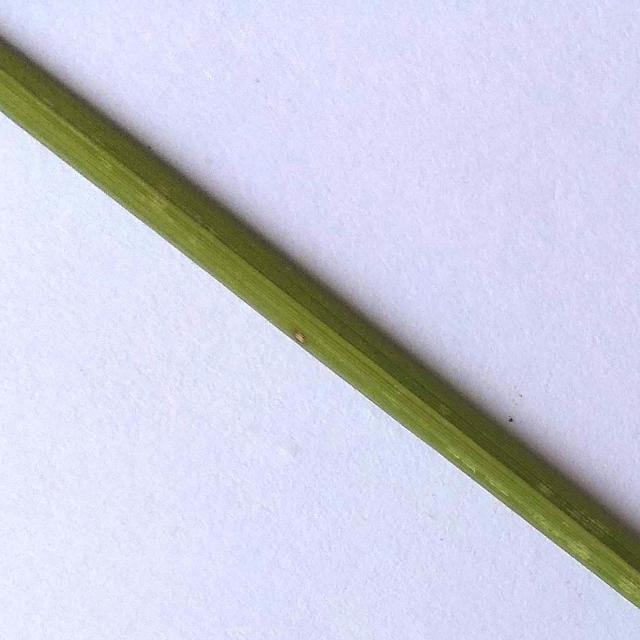Leaf_Blast: (276, 307, 333, 372)
